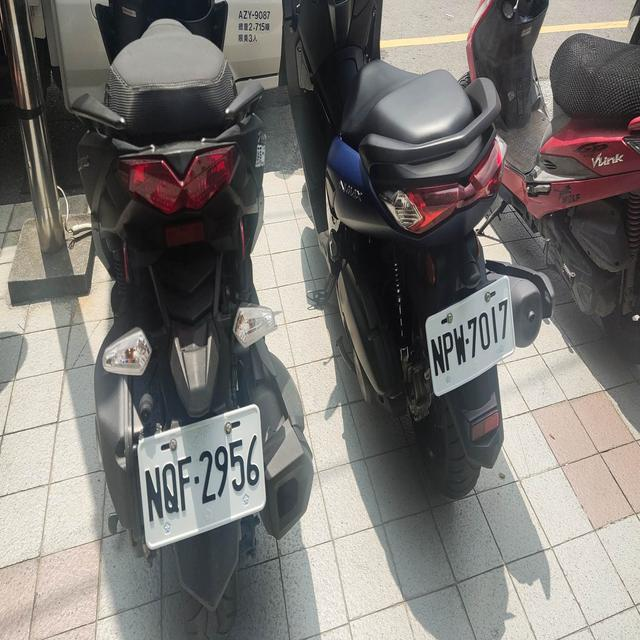plate: (130, 423, 269, 528), (417, 284, 521, 389)
